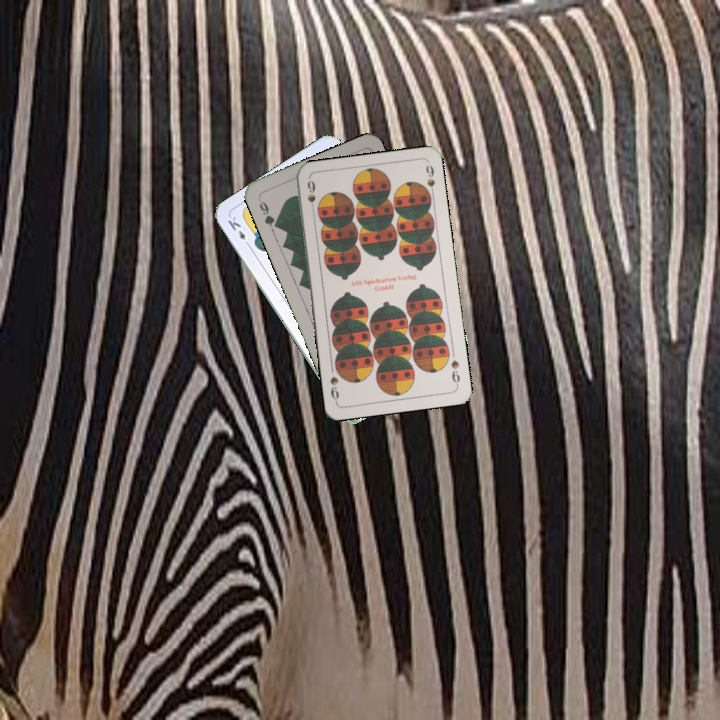EK: (224, 212, 253, 250)
G9: (254, 194, 281, 231)
S9: (303, 177, 318, 217), (447, 356, 462, 388)
